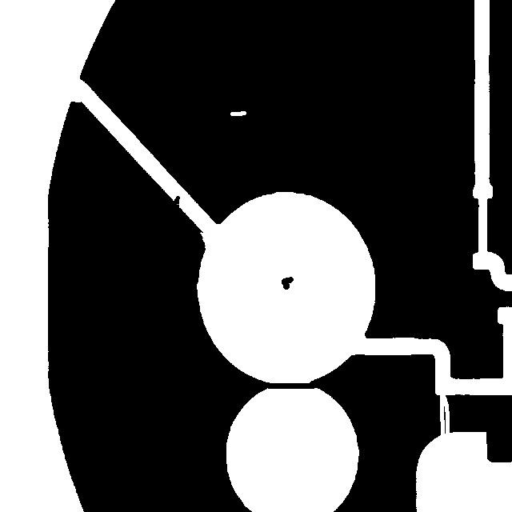copper: (274, 269, 301, 297)
mousebite: (58, 83, 91, 110), (192, 224, 218, 256)
open: (432, 383, 457, 445)
pin-hole: (222, 103, 254, 123)
short: (258, 374, 328, 396)
spur: (165, 188, 187, 214)
